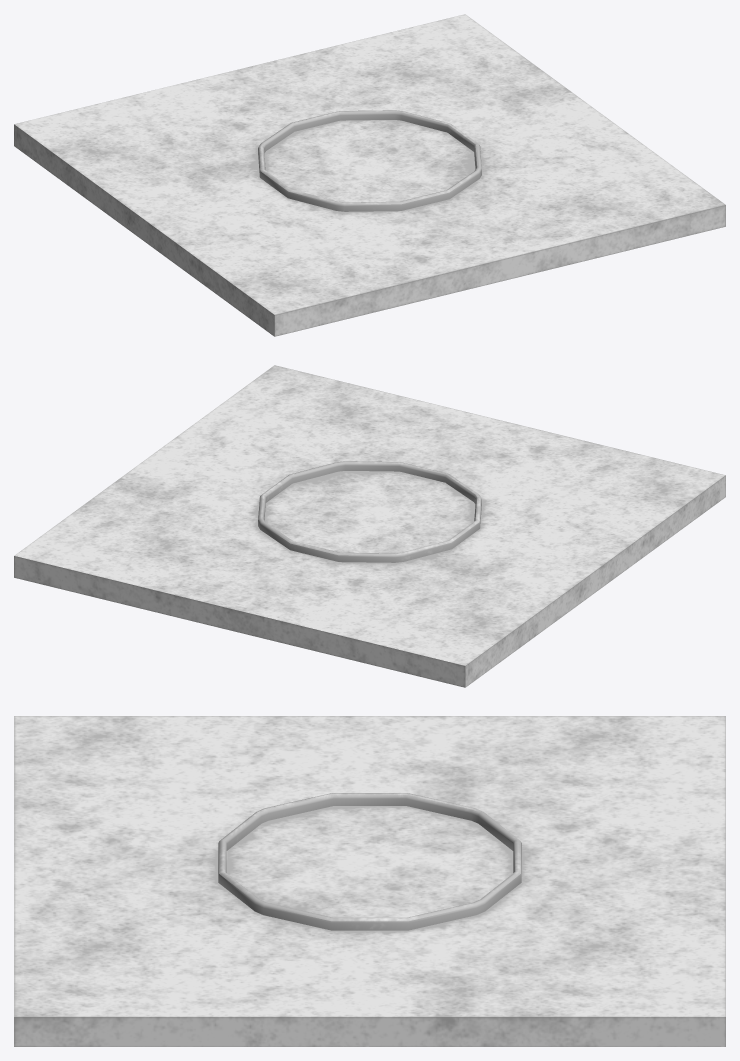
The model's file is Modular_Dungeon_Entry.fbx.
The picture shows the model from 3 angles, top to bottom: view 1: azimuth 30°, elevation 25°; view 2: azimuth 150°, elevation 25°; view 3: azimuth 270°, elevation 25°; orthographic projection. The views are drawn at different scales.
Parts seen in each view (by area): view 1: Bodenplatte_Lo_Entry; view 2: Bodenplatte_Lo_Entry; view 3: Bodenplatte_Lo_Entry.
Part boxes in pixels (x1,y1,x2,y2): Bodenplatte_Lo_Entry: (14,14,725,336); Bodenplatte_Lo_Entry: (14,365,725,687); Bodenplatte_Lo_Entry: (14,716,725,1046).
Bounding box in the file's own units: 280 × 17.63 × 280.
